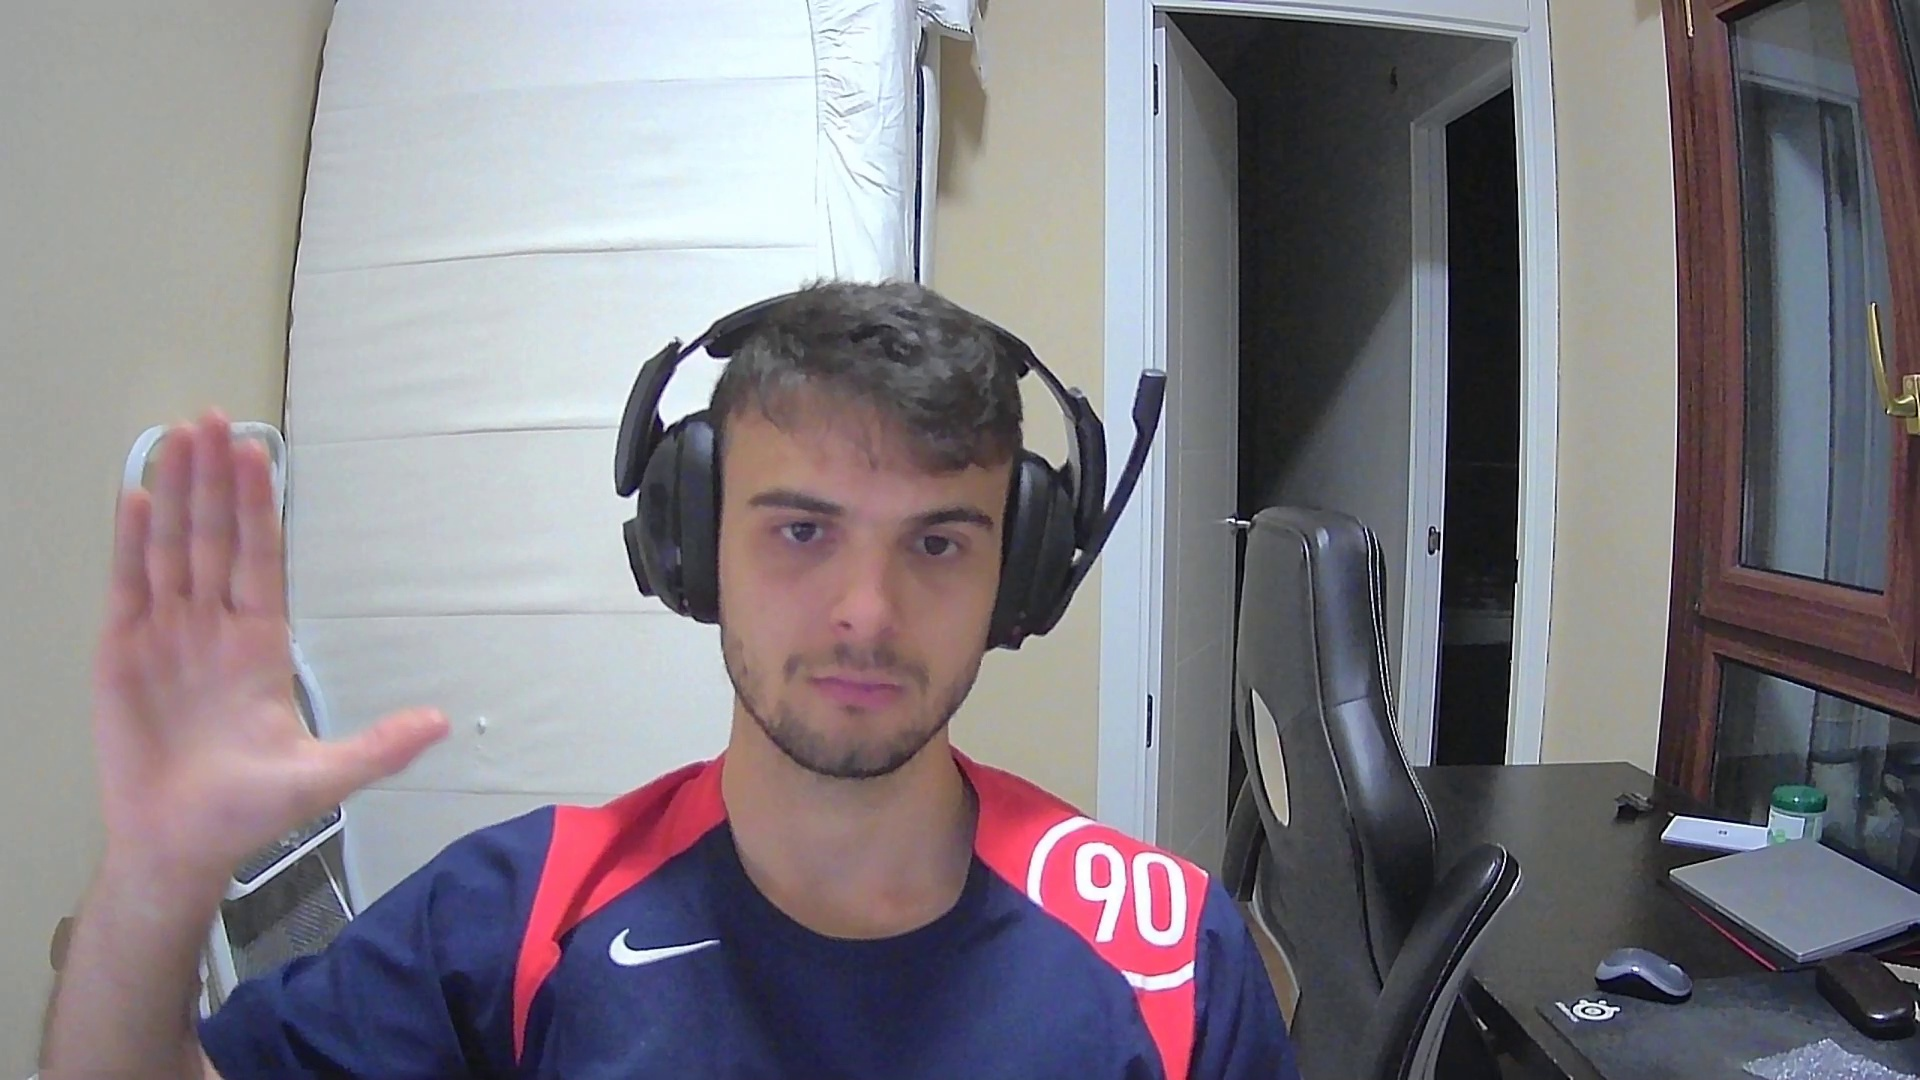Palm: (82, 402, 450, 855)
